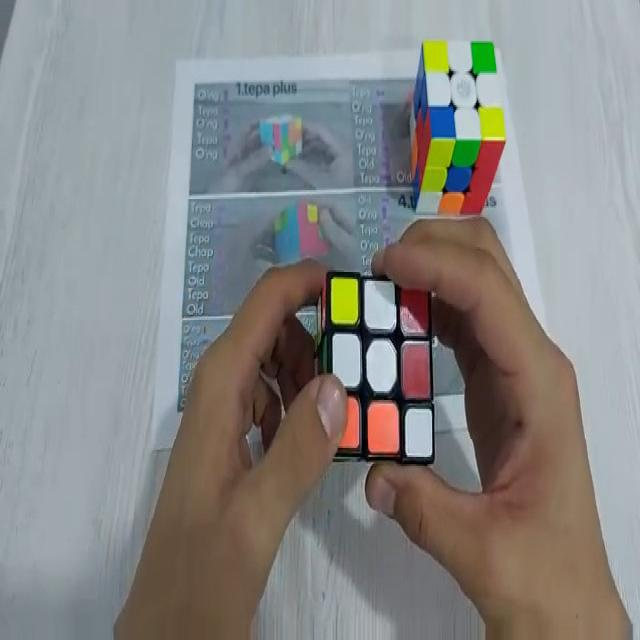Rub: (314, 275, 436, 465), (408, 35, 508, 214)
